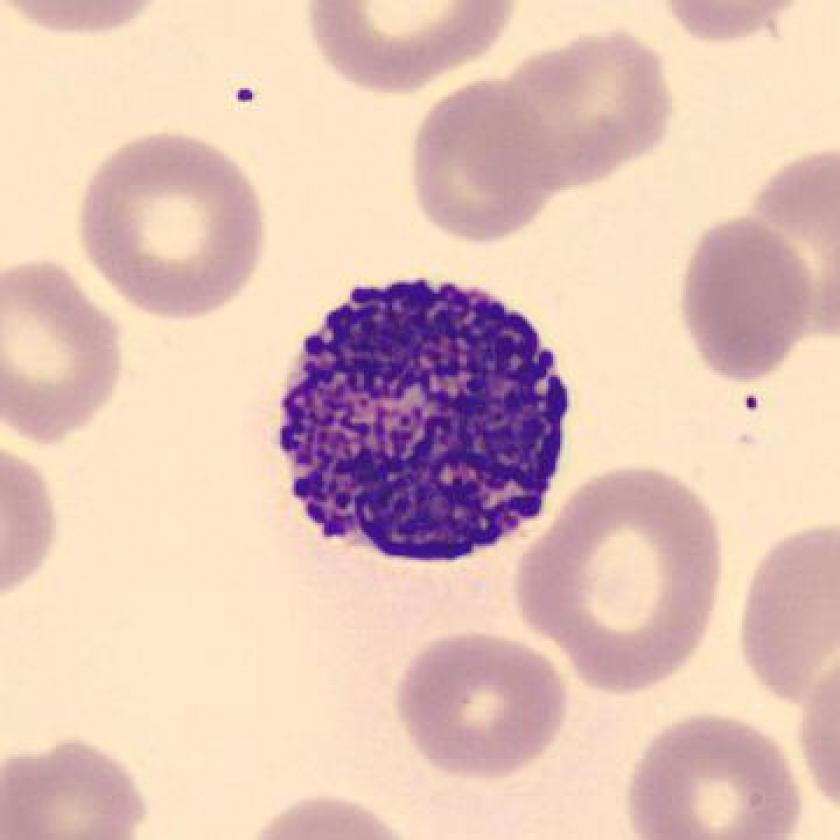basophil: (272, 274, 573, 566)
